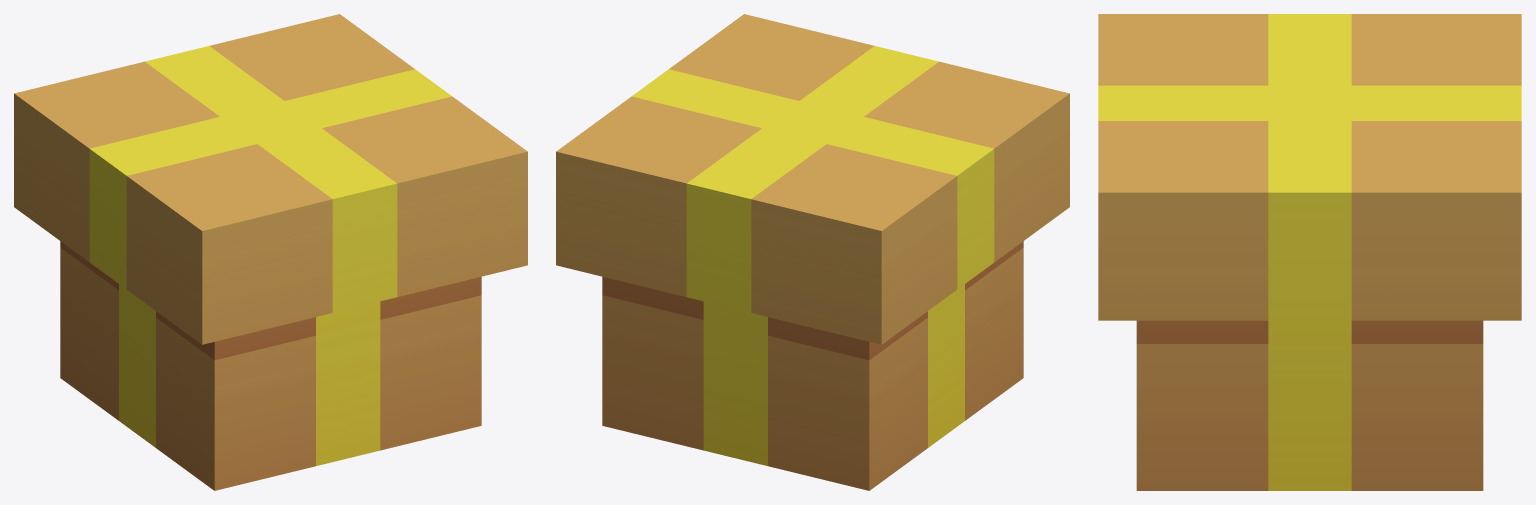
The model's file is Package.fbx.
The picture shows the model from 3 angles, left to right: view 1: azimuth 30°, elevation 25°; view 2: azimuth 150°, elevation 25°; view 3: azimuth 270°, elevation 25°; orthographic projection. The views are drawn at different scales.
Visible parts, largest first — view 1: Package; view 2: Package; view 3: Package.
Boxes of the visible parts, x1,y1,x2,y2 form: Package: (14,14,527,490); Package: (556,14,1069,490); Package: (1098,14,1521,490).
Bounding box in the file's own units: 27.58 × 22.61 × 27.58.
